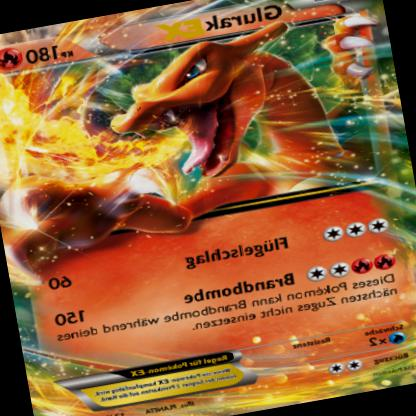Charizard: (1, 10, 406, 243)
